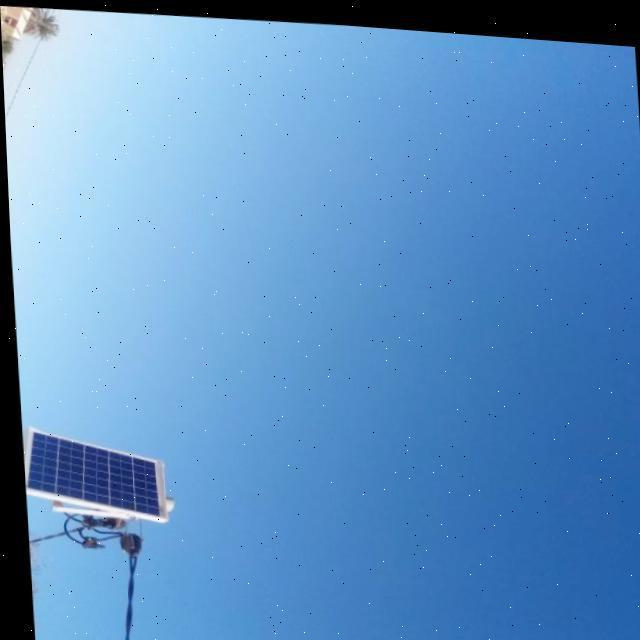Normal Solar Panel: (17, 426, 162, 520)
